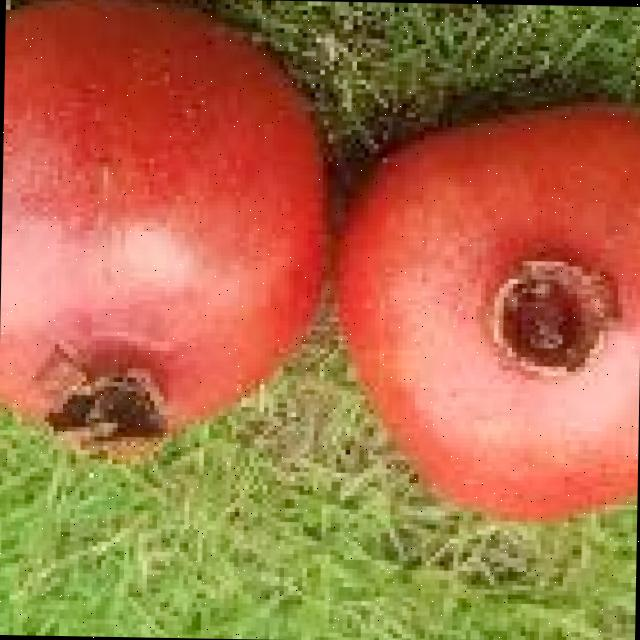Good_Lime-10-21 days: (0, 0, 640, 540)
Good_Pomegranate 50-60-days: (0, 0, 338, 476)
